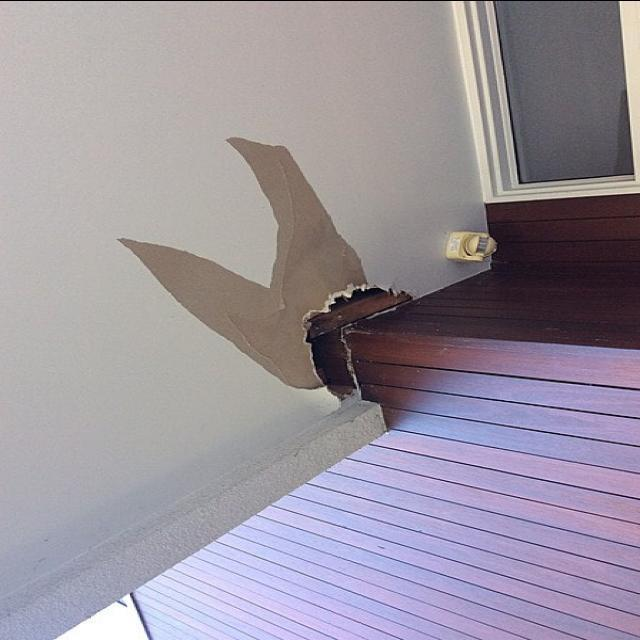Crack: (303, 285, 416, 407)
